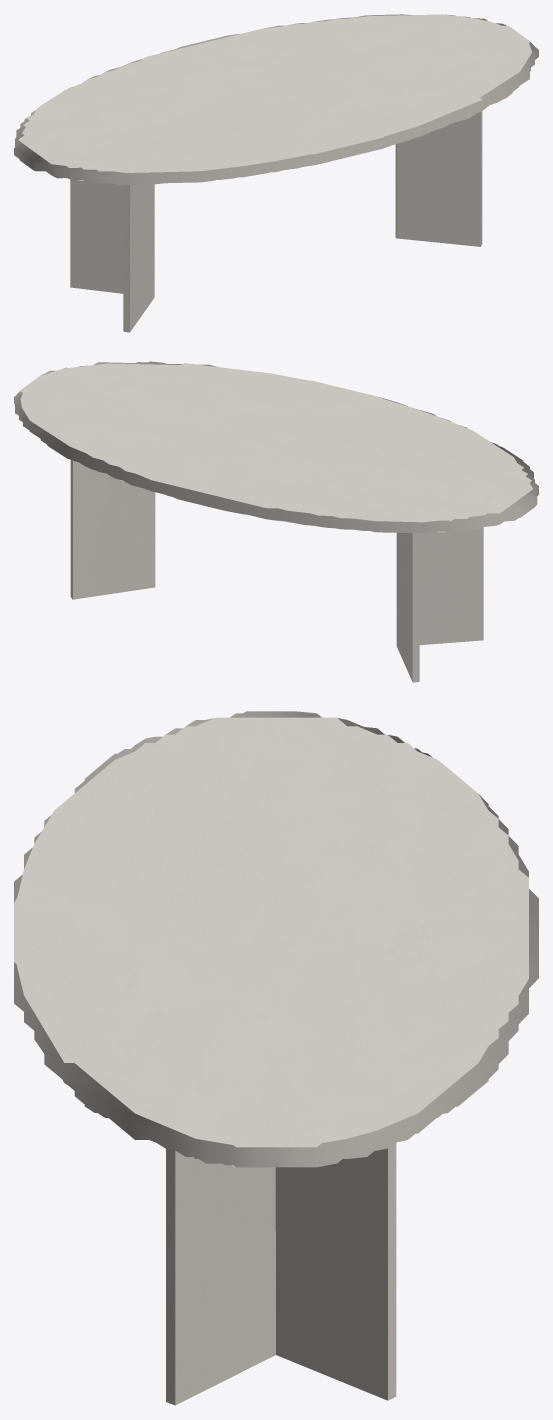
The model's file is pearlwhite_ellips_round_valleyv.glb.
3 views of the same model, one above another, from view 1: azimuth 30°, elevation 25°; view 2: azimuth 150°, elevation 25°; view 3: azimuth 270°, elevation 25° (orthographic). The views are drawn at different scales.
Parts seen in each view (by area): view 1: round_ellips, valleyv; view 2: round_ellips, valleyv; view 3: round_ellips, valleyv.
Part boxes in pixels (x1=…): round_ellips: x1=14, y1=14, x2=538, y2=185; valleyv: x1=70, y1=111, x2=482, y2=332; round_ellips: x1=14, y1=361, x2=538, y2=533; valleyv: x1=70, y1=459, x2=483, y2=682; round_ellips: x1=14, y1=711, x2=538, y2=1167; valleyv: x1=166, y1=1142, x2=396, y2=1405.
Size of the model in its own units: 7.43 by 2.5 by 3.77.
Materials: 1 (1 with a texture image).
